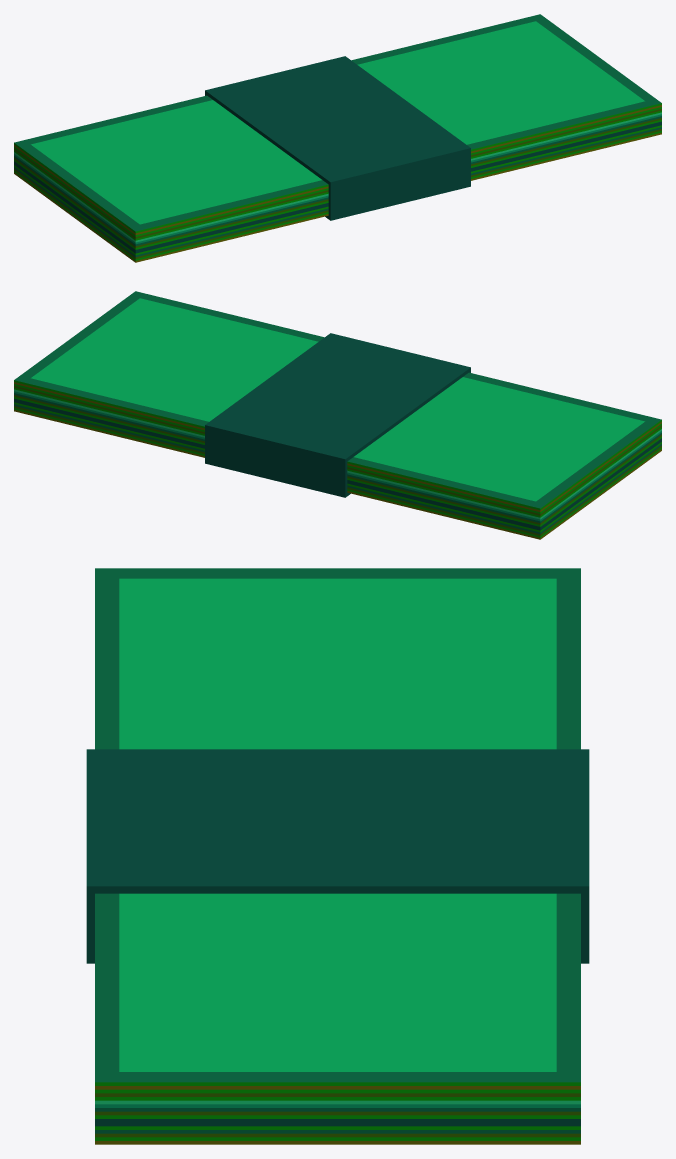
The model's file is Money.dae.
The picture shows the model from 3 angles, top to bottom: view 1: azimuth 30°, elevation 25°; view 2: azimuth 150°, elevation 25°; view 3: azimuth 270°, elevation 25°; orthographic projection. The views are drawn at different scales.
Visible parts, largest first — view 1: SketchUp (×37); view 2: SketchUp (×37); view 3: SketchUp (×21).
Part boxes in pixels (x1=…): SketchUp (×37): x1=14, y1=14, x2=661, y2=262; SketchUp (×37): x1=14, y1=291, x2=661, y2=539; SketchUp (×21): x1=86, y1=568, x2=589, y2=1144.
Bounding box in the file's own units: 5.91 × 2.44 × 0.4134.
